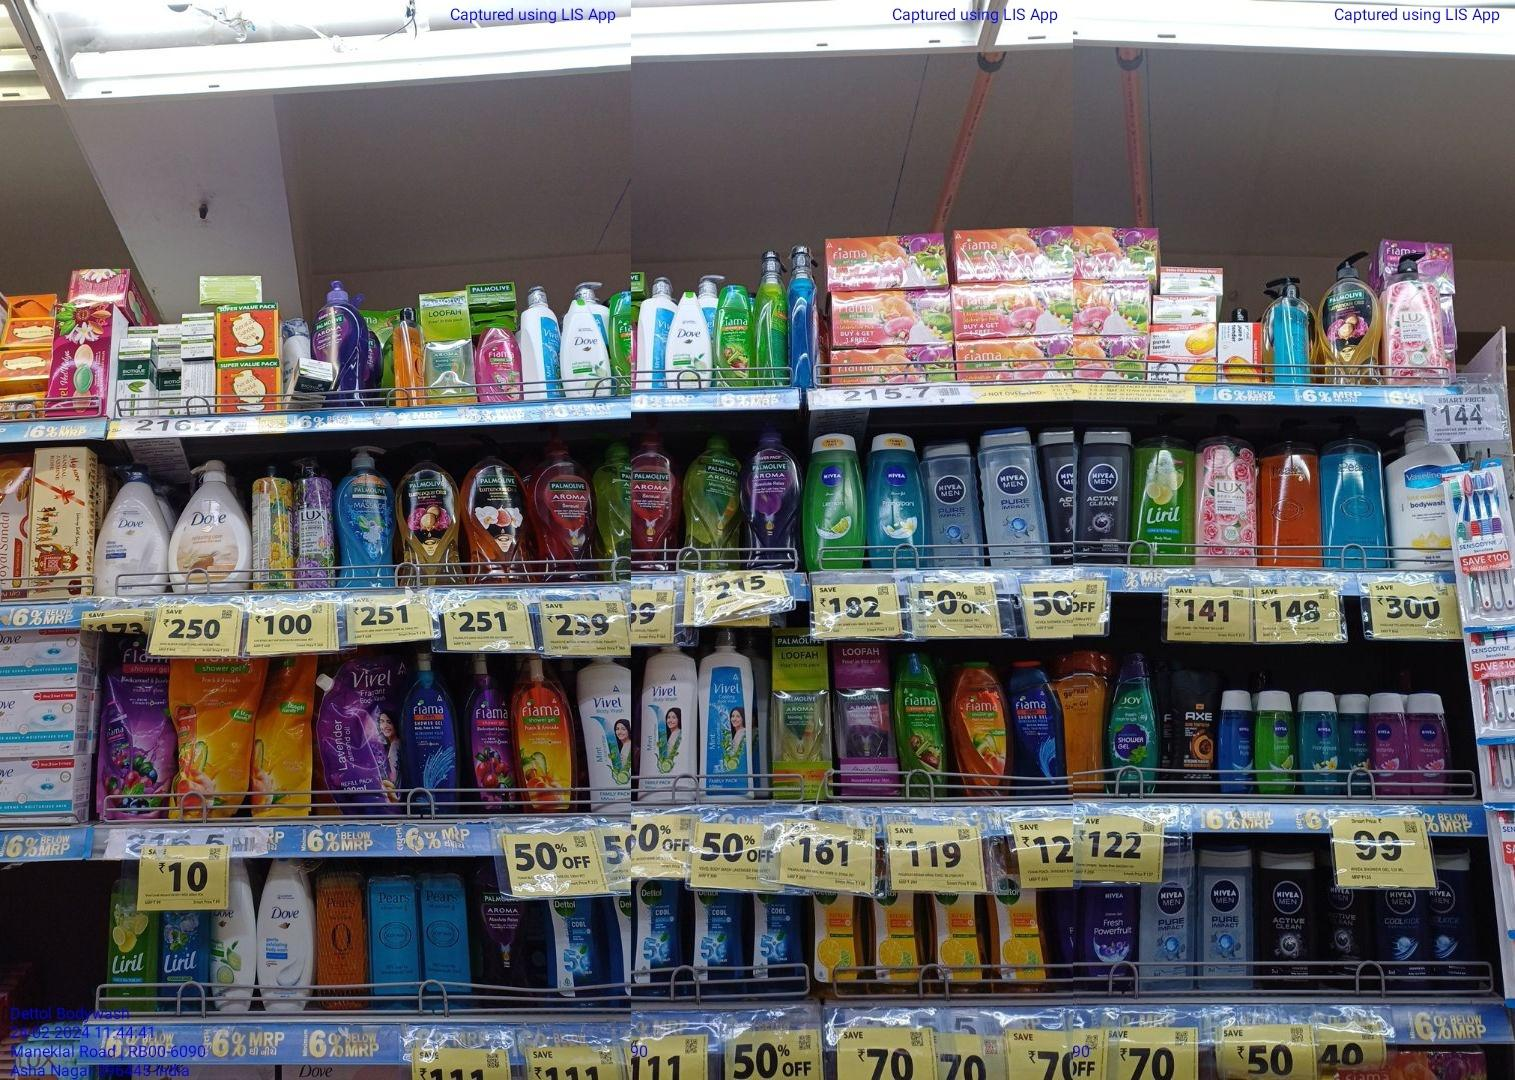Dettol_Bodywash_Cool: (629, 875, 680, 996), (549, 896, 600, 1008), (696, 886, 741, 981), (757, 898, 803, 978)
Dettol_Bodywash_Refresh: (987, 842, 1047, 990), (864, 892, 926, 992), (809, 892, 859, 988), (933, 896, 983, 990)
Dove_Gentle_Exfoliating_Body_Wash_250ML: (261, 856, 316, 1008)
Dove_Refreshing_Body_Wash_250ML: (203, 861, 256, 1011), (563, 299, 611, 396), (666, 291, 713, 389)
Fiama_Shower_Gel_Patchouli_and_Macadamia_250ML: (478, 321, 523, 402)
Joy_Shower_Gel_Mint_and_Eucalyptus_250ML: (1104, 653, 1162, 796)
Nivea_Shower_Gel_Frangipani_and_Oil_250ML: (869, 431, 928, 568)
Nivea_Shower_Gel_Lemon_and_Oil_250ML: (803, 431, 867, 568)
